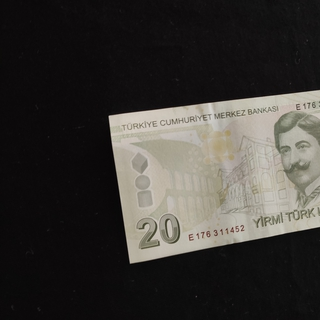20TLBack: (108, 82, 320, 264)
